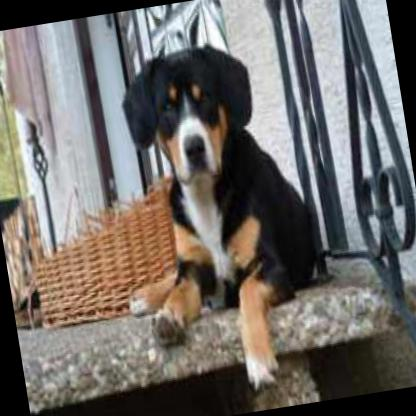EntleBucher: (88, 26, 336, 406)
